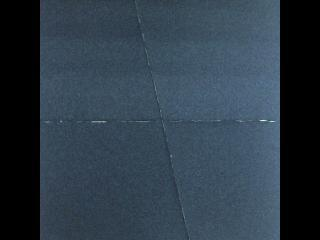crack: (131, 0, 194, 240), (39, 113, 280, 130)
